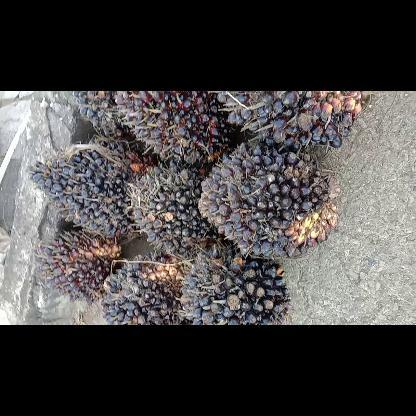TBS mentah: (198, 138, 340, 260), (25, 133, 153, 239), (206, 90, 374, 150), (126, 160, 226, 254), (178, 242, 292, 324), (110, 91, 238, 164), (100, 252, 198, 324), (34, 230, 128, 304)
